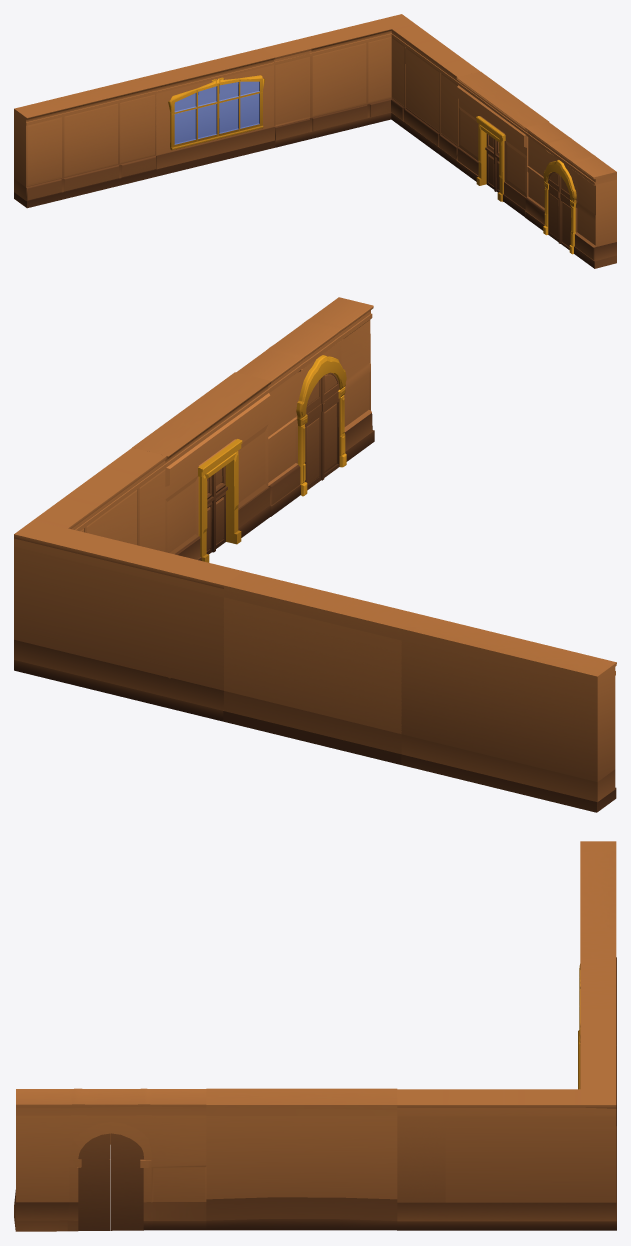
The model's file is Seinät.fbx.
The picture shows the model from 3 angles, top to bottom: view 1: azimuth 30°, elevation 25°; view 2: azimuth 150°, elevation 25°; view 3: azimuth 270°, elevation 25°; orthographic projection. The views are drawn at different scales.
Visible parts, largest first — view 1: Nurkka_seinä, seina, ikkunaseinä, Iso_ovi1, pieni_ovi; view 2: Nurkka_seinä, seina, ikkunaseinä, Iso_ovi1, pieni_ovi; view 3: Nurkka_seinä, pieni_ovi, Iso_ovi1, seina, ikkunaseinä.
Part boxes in pixels (box(x1,y1,x2,y2)): Nurkka_seinä: box(262, 14, 479, 166); seina: box(14, 77, 157, 208); ikkunaseinä: box(145, 48, 275, 176); Iso_ovi1: box(525, 122, 616, 268); pieni_ovi: box(456, 71, 548, 216); Nurkka_seinä: box(14, 447, 242, 721); seina: box(401, 614, 616, 812); ikkunaseinä: box(223, 571, 420, 764); Iso_ovi1: box(236, 297, 374, 516); pieni_ovi: box(132, 372, 271, 562); Nurkka_seinä: box(397, 1010, 616, 1230); pieni_ovi: box(206, 1088, 397, 1230); Iso_ovi1: box(14, 1088, 206, 1231); seina: box(580, 841, 616, 1045); ikkunaseinä: box(578, 930, 616, 1125).
Size of the model in its own units: 9.44 by 2.12 by 9.11.
1 material, 1 textured.
